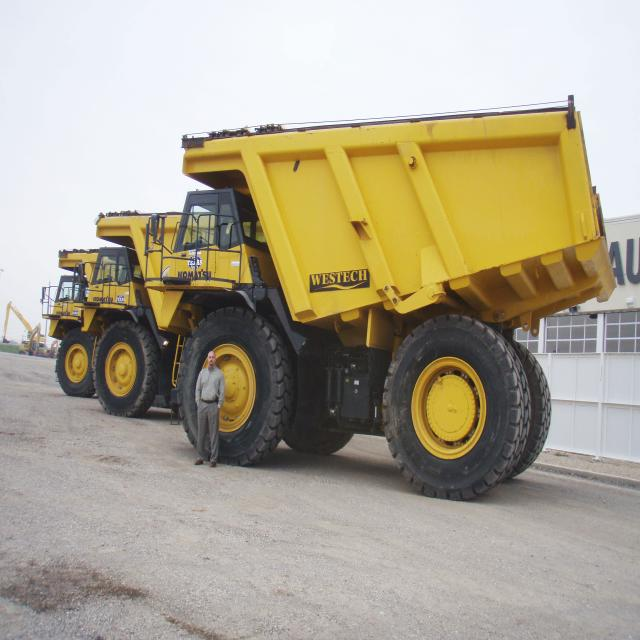dump_truck: (166, 98, 619, 510), (89, 196, 193, 437)
